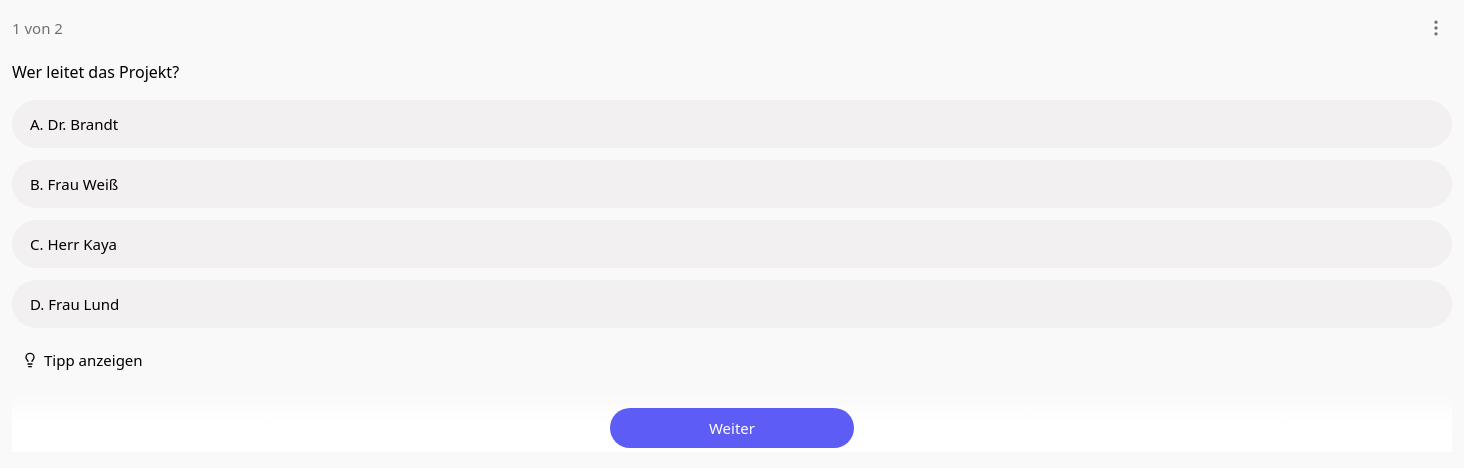
QuizView › lets a question be skipped with "Weiter", counting it as not answered
Click the button "Weiter". click: x=732, y=428
box: [610,408,854,448]
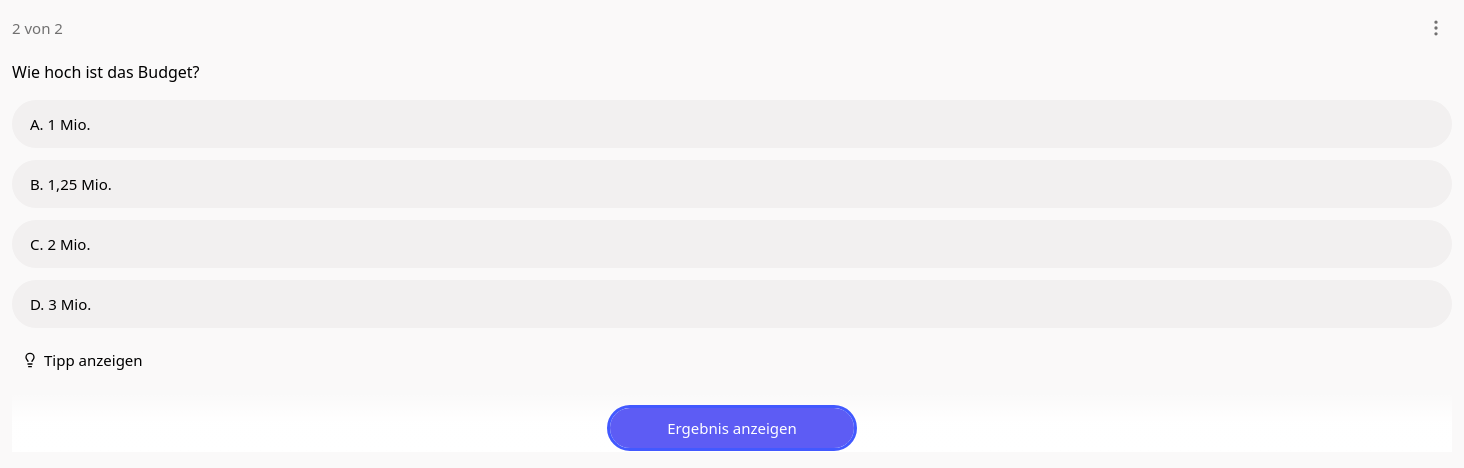
Expected: the text "2 von 2" is shown, [12,18,63,38]
Click the button "Ergebnis anzeigen". click: x=732, y=428
box: [610,408,854,448]
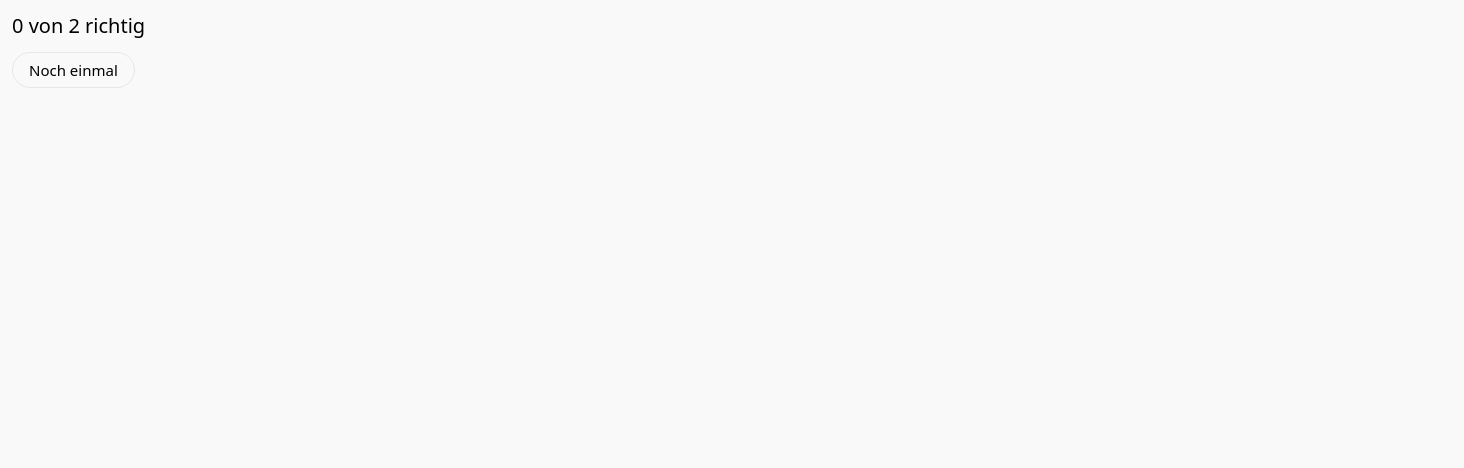
Expected: the heading "0 von 2 richtig" is shown, [12,12,145,40]
